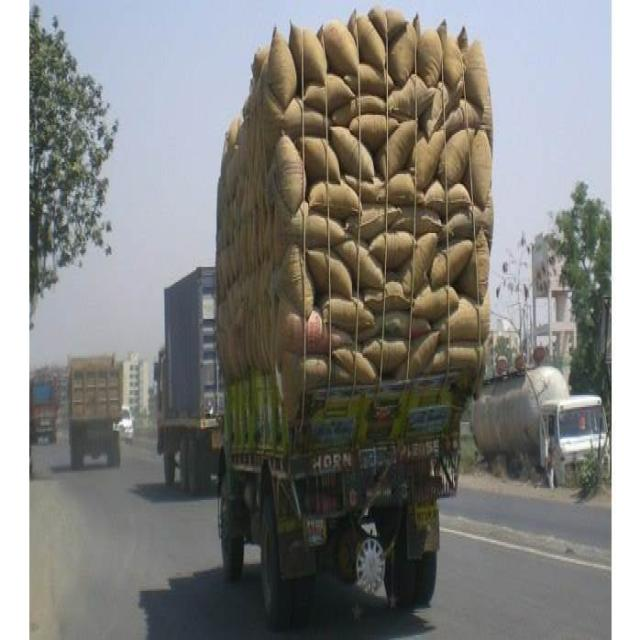overloaded_truck: (217, 38, 510, 555)
